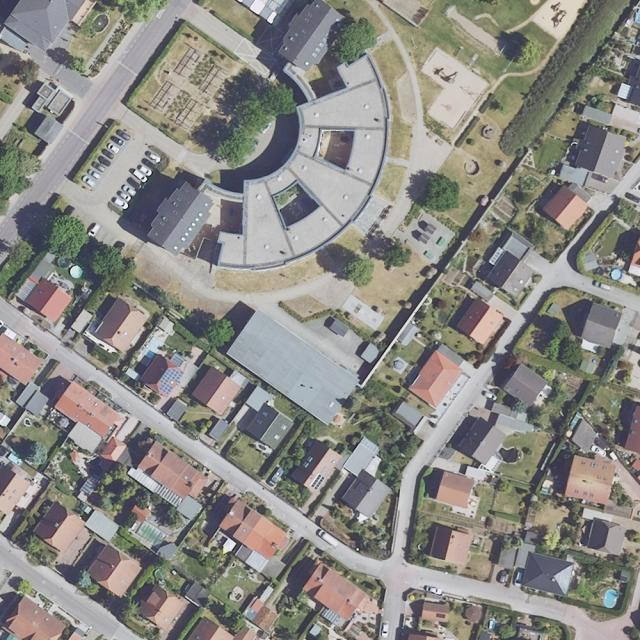PV: (158, 367, 185, 394)
ST: (435, 613, 445, 618)
